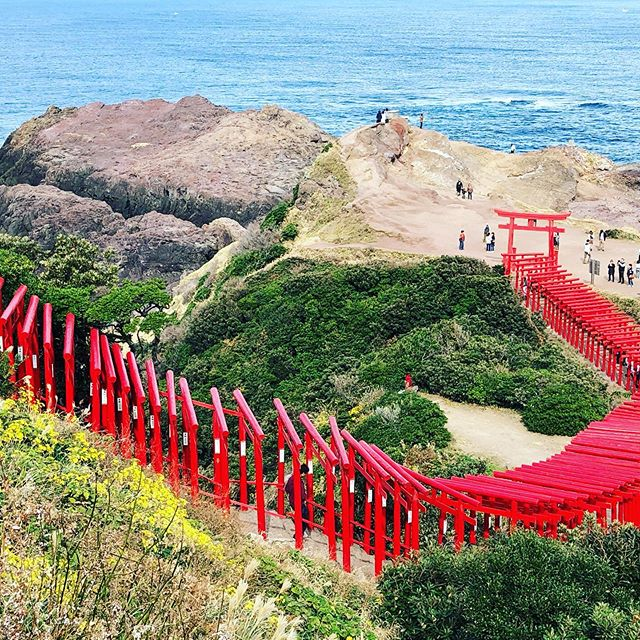sea: (1, 1, 640, 116)
vegetation: (188, 241, 571, 442), (382, 527, 640, 640)
